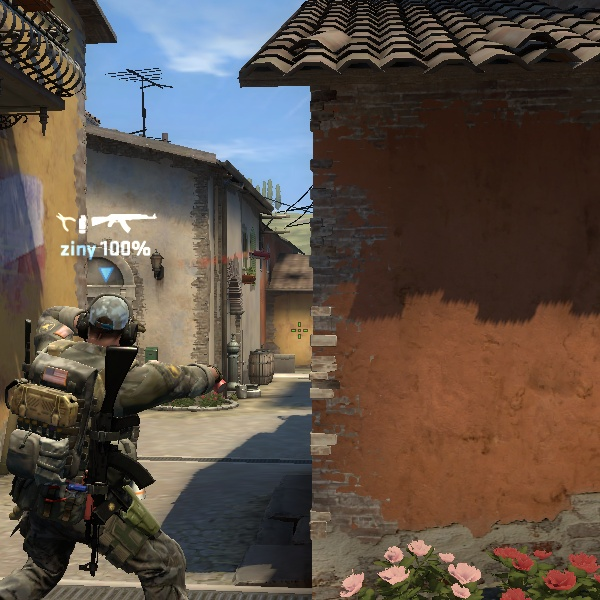ct_body: (16, 291, 189, 594)
ct_head: (71, 289, 152, 370)
